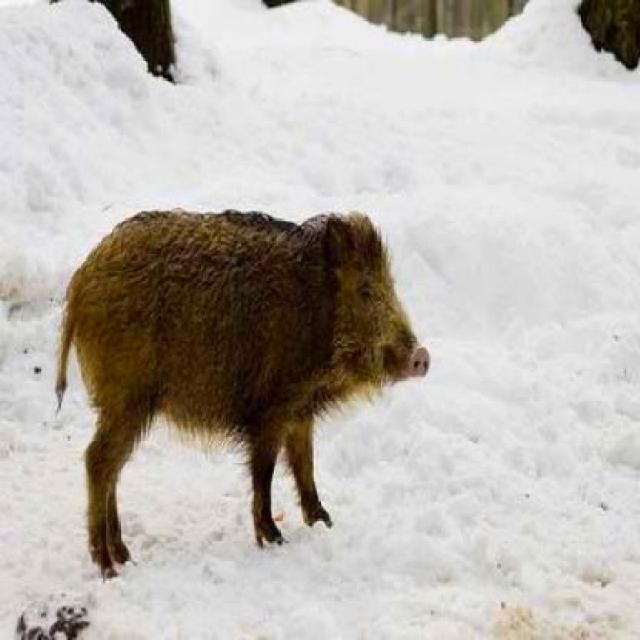Boar: (28, 193, 466, 562)
